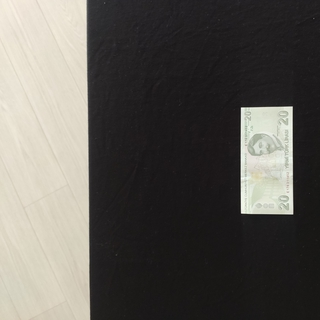20TLBack: (240, 106, 294, 215)
